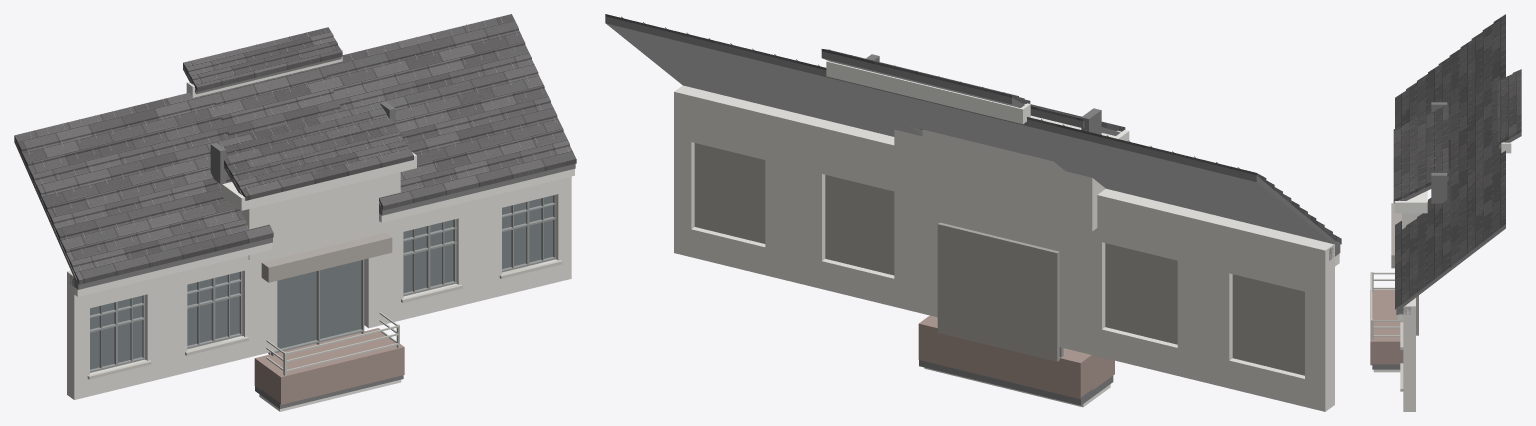
File: hongkou-zhongzhou-school-central-balcony-raw.glb
3 renders of one model, left to right at view 1: azimuth 30°, elevation 25°; view 2: azimuth 150°, elevation 25°; view 3: azimuth 270°, elevation 25°, orthographic. The views are drawn at different scales.
Parts seen in each view (by area): view 1: 华童公学中州路校舍操场侧中央阳台与钢窗; view 2: 华童公学中州路校舍操场侧中央阳台与钢窗; view 3: 华童公学中州路校舍操场侧中央阳台与钢窗.
Boxes of the visible parts, <box> form: 华童公学中州路校舍操场侧中央阳台与钢窗: <box>14,14,576,411</box>; 华童公学中州路校舍操场侧中央阳台与钢窗: <box>605,14,1341,411</box>; 华童公学中州路校舍操场侧中央阳台与钢窗: <box>1370,14,1521,411</box>.
Size of the model in its own units: 8.49 by 4.72 by 2.61.
Materials: 11 (1 with a texture image).
